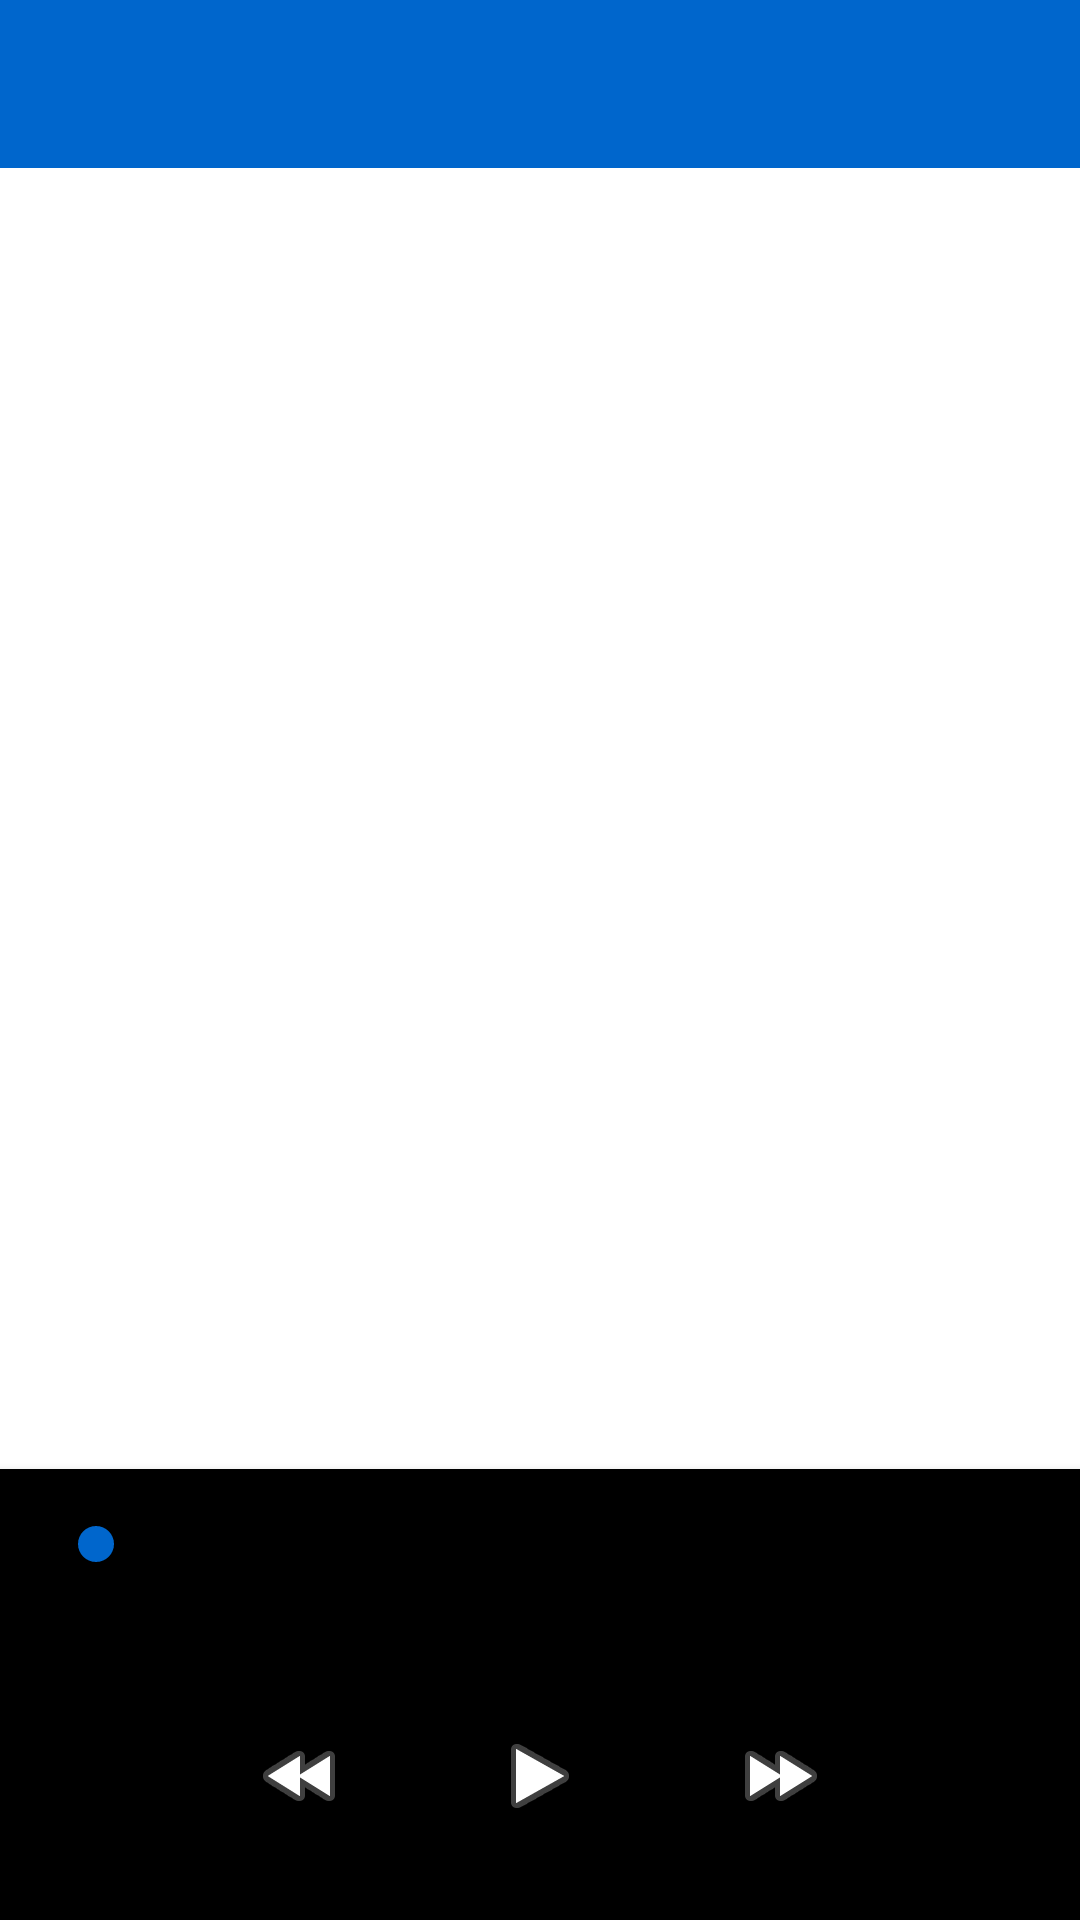

Icons on this 1080x1920 Android screen, each with the point to tap as (x,y):
Play/Pause: (540,1776)
Skip backward: (299,1776)
Skip forward: (781,1776)
